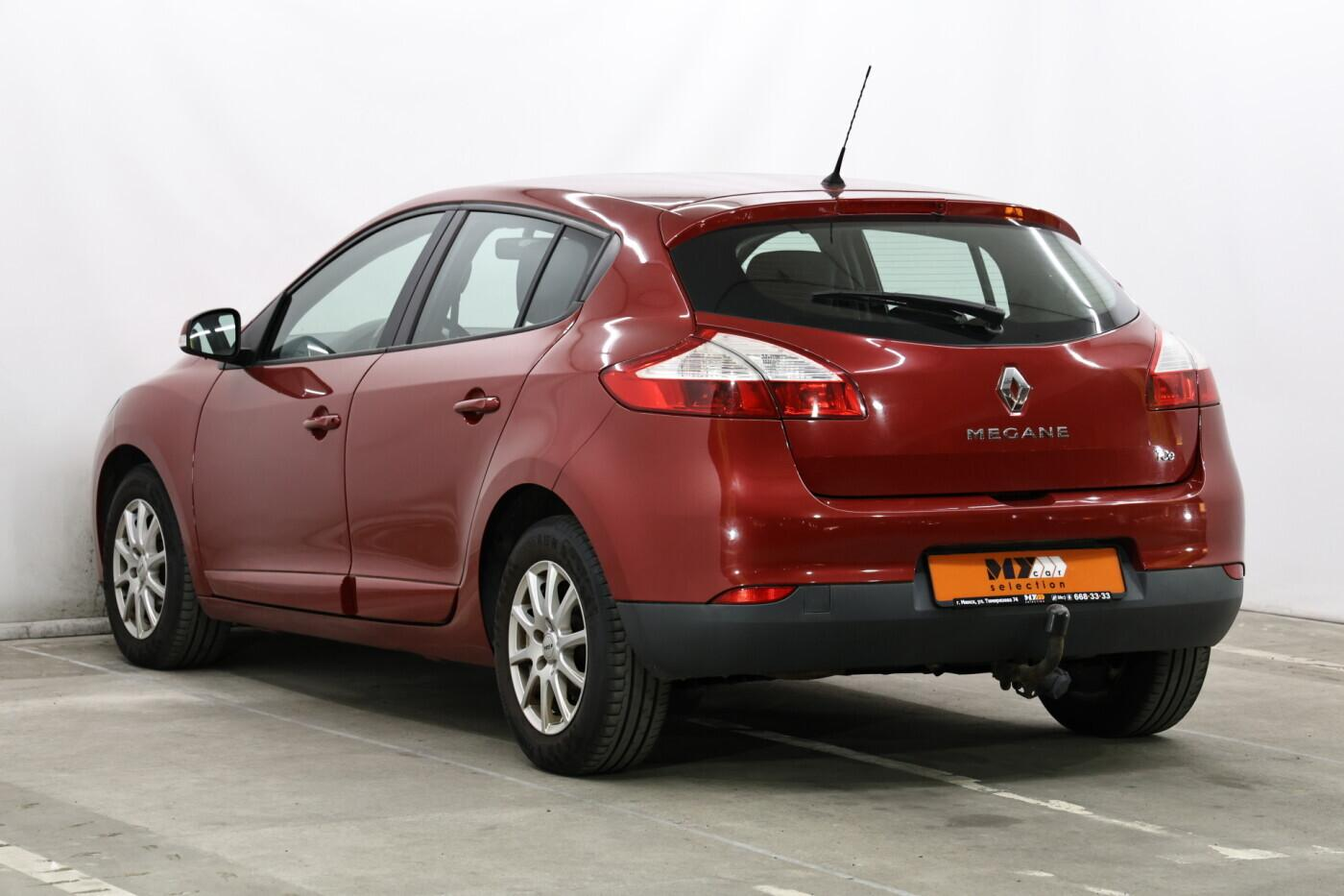Megane_2012-2014: (89, 175, 1252, 757)
